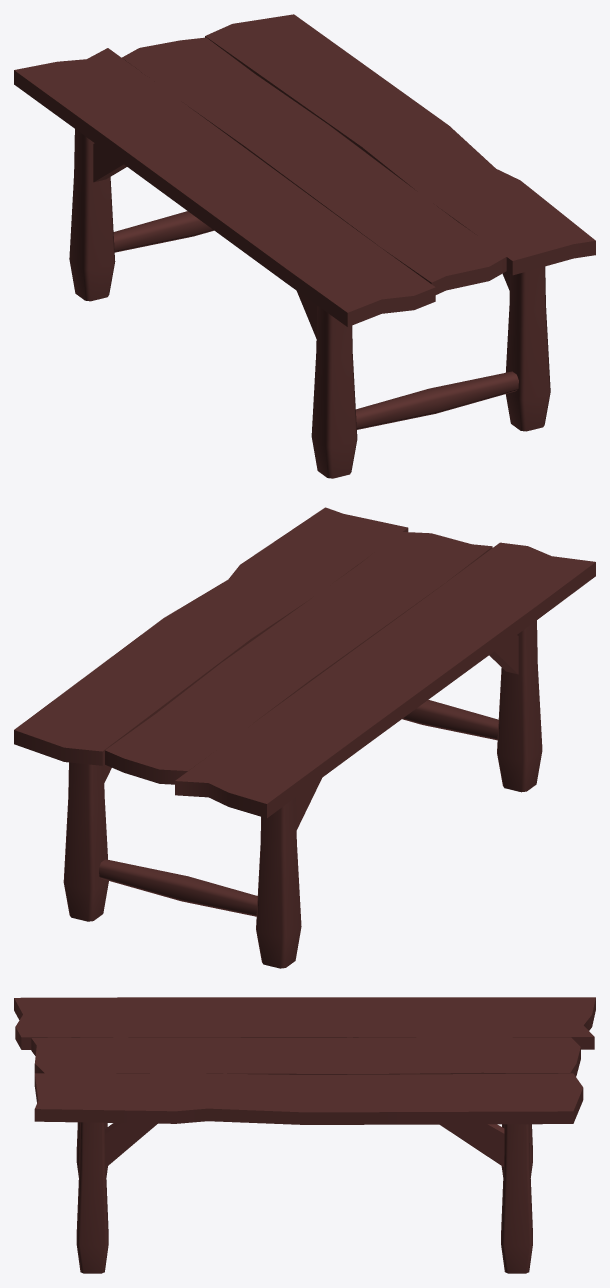
The model's file is table_rectangle.fbx.
3 renders of one model, top to bottom at view 1: azimuth 30°, elevation 25°; view 2: azimuth 150°, elevation 25°; view 3: azimuth 270°, elevation 25°, orthographic. The views are drawn at different scales.
Visible parts, largest first — view 1: table_rectangle; view 2: table_rectangle; view 3: table_rectangle.
Part boxes in pixels (<box>): table_rectangle: <box>14,14,595,478</box>; table_rectangle: <box>14,507,595,968</box>; table_rectangle: <box>14,997,595,1273</box>.
Size of the model in its own units: 33.96 by 23.99 by 72.49.
